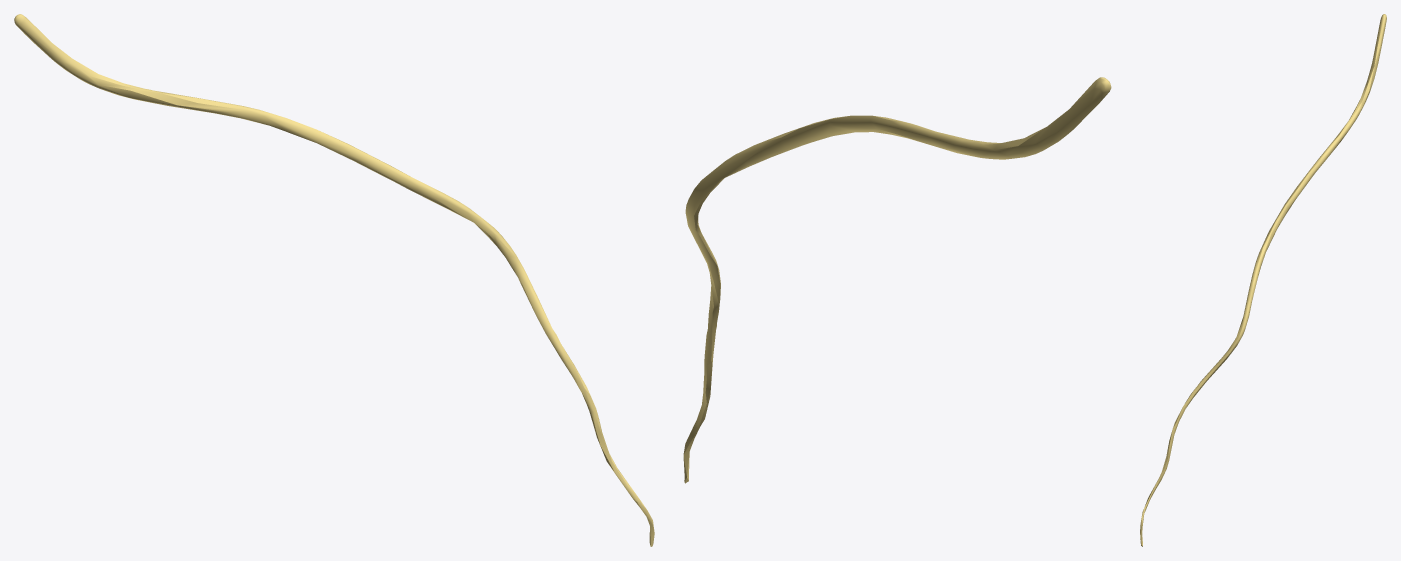
File: fma65338_fj4281.glb
3 views of the same model, side by side, from view 1: azimuth 30°, elevation 25°; view 2: azimuth 150°, elevation 25°; view 3: azimuth 270°, elevation 25° (orthographic). The views are drawn at different scales.
Parts seen in each view (by area): view 1: FMA65338_FJ4281; view 2: FMA65338_FJ4281; view 3: FMA65338_FJ4281.
Boxes of the visible parts, box(x1,y1,x2,y2) form: FMA65338_FJ4281: box(14, 14, 654, 546); FMA65338_FJ4281: box(683, 77, 1111, 483); FMA65338_FJ4281: box(1140, 14, 1386, 546).
Size of the model in its own units: 0.0613 by 0.065 by 0.0391.
